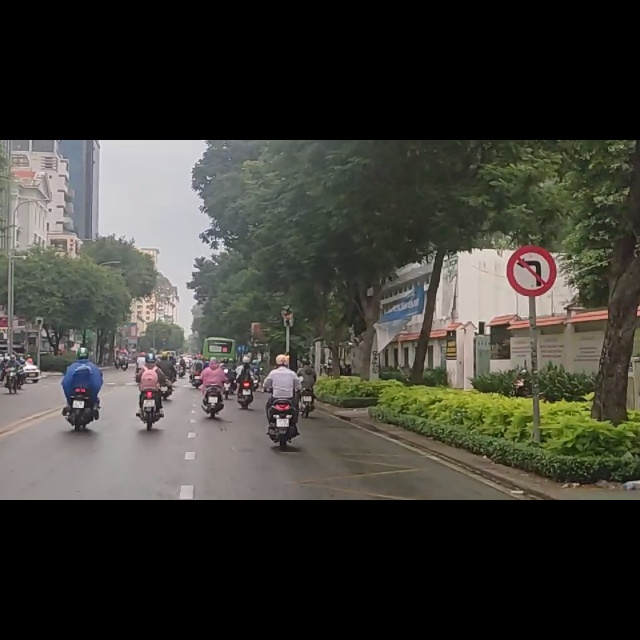bien_cam: (507, 184, 558, 276)
